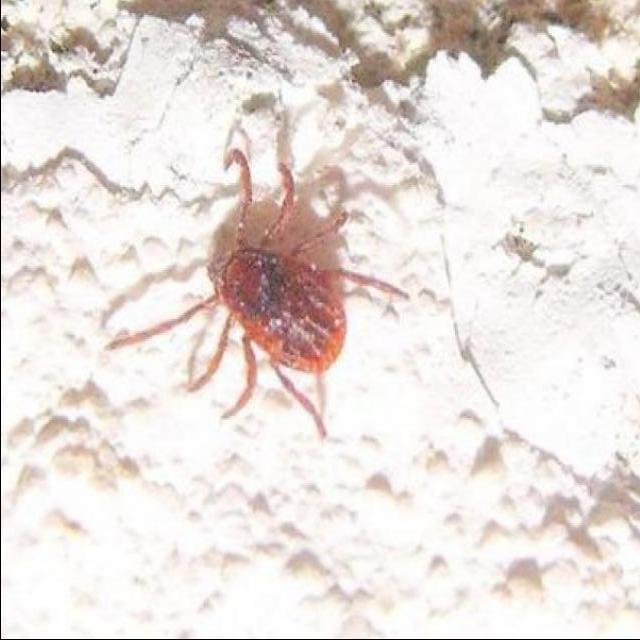Rhipicephalus Sanguineus-F: (103, 111, 406, 441)
